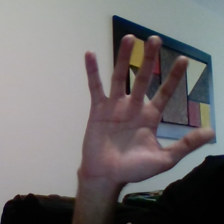left: (74, 19, 224, 198)
